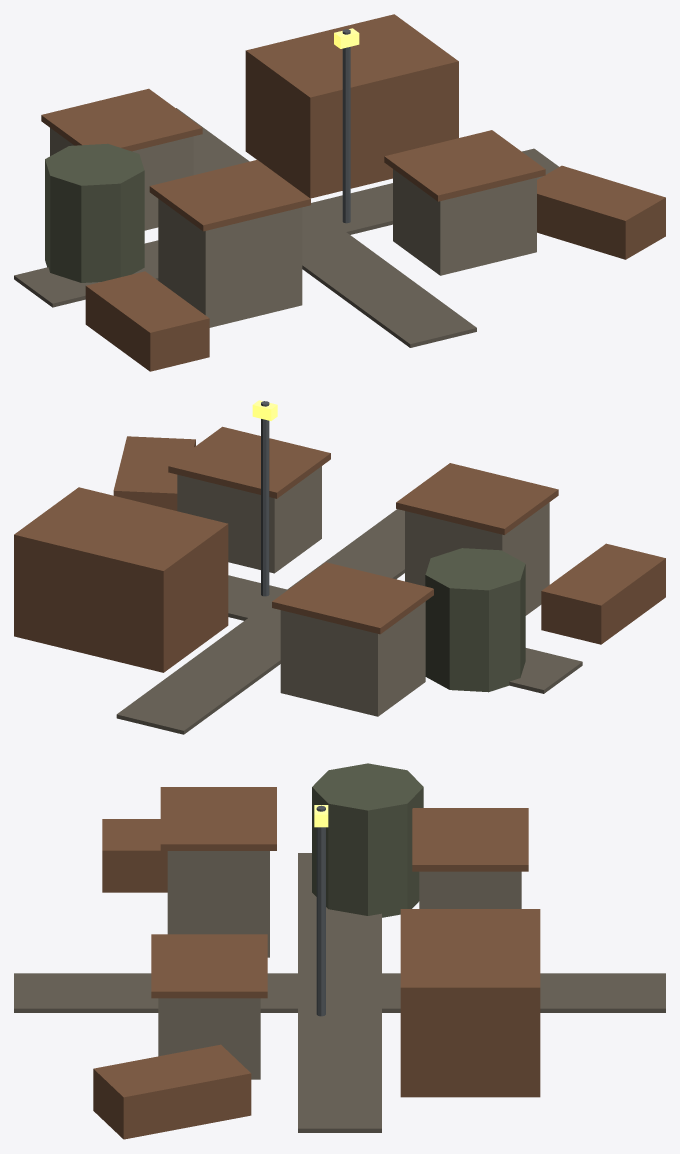
File: wm_settlement_neutral.glb
3 views of the same model, one above another, from view 1: azimuth 30°, elevation 25°; view 2: azimuth 150°, elevation 25°; view 3: azimuth 270°, elevation 25° (orthographic). The views are drawn at different scales.
Visible parts, largest first — view 1: depot, shack0, tank, road_b, shack1, wreck1, wreck0, shroof1, shroof0, shroof2, road_a, shack2 (+1 smaller); view 2: depot, tank, road_b, shack2, wreck0, shack1, shroof0, shroof2, shack0, shroof1, wreck1, road_a (+1 smaller); view 3: depot, road_a, tank, road_b, wreck1, shack0, shroof1, shroof0, shroof2, shack1, wreck0, shack2 (+1 smaller).
Part boxes in pixels (x1,y1,x2,y2): depot: (245, 14, 458, 198); shack0: (158, 199, 302, 327); tank: (45, 143, 144, 282); road_b: (176, 108, 476, 347); shack1: (393, 169, 536, 275); wreck1: (537, 165, 665, 259); wreck0: (85, 271, 209, 371); shroof1: (384, 130, 545, 201); shroof0: (149, 159, 310, 231); shroof2: (41, 88, 202, 151); road_a: (14, 148, 558, 307); shack2: (50, 128, 193, 230); depot: (14, 487, 228, 672); tank: (425, 548, 525, 692); road_b: (116, 509, 404, 734); shack2: (280, 601, 425, 716); wreck0: (541, 543, 665, 644); shack1: (177, 466, 321, 573); shroof0: (396, 463, 558, 534); shroof2: (272, 562, 433, 634); shack0: (405, 502, 549, 615); shroof1: (168, 426, 330, 498); wreck1: (113, 436, 195, 510); road_a: (228, 575, 582, 693); depot: (400, 909, 540, 1097); road_a: (298, 853, 381, 1132); tank: (312, 763, 423, 917); road_b: (14, 973, 665, 1012); wreck1: (93, 1044, 251, 1139); shack0: (167, 851, 269, 957); shroof1: (151, 934, 267, 998); shroof0: (160, 787, 276, 850); shroof2: (412, 808, 528, 871); shack1: (158, 998, 260, 1079); wreck0: (102, 819, 167, 892); shack2: (419, 871, 521, 908).
Bounding box in the file's own units: 14.34 × 5 × 14.
